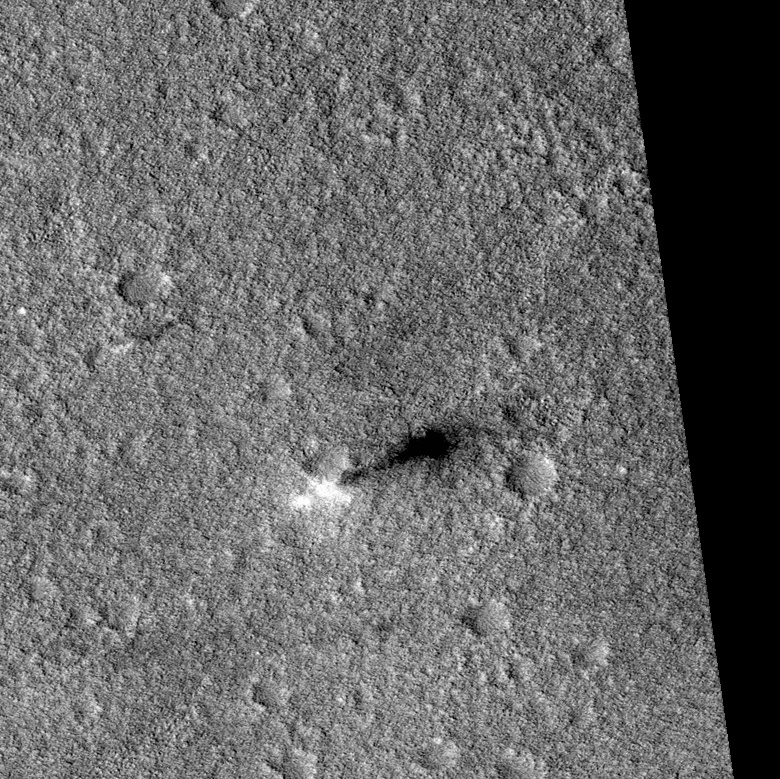dust_devil: (287, 388, 558, 516)
